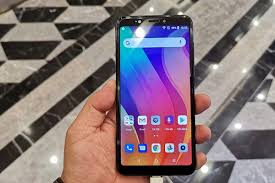vsmart: (112, 14, 200, 178)
